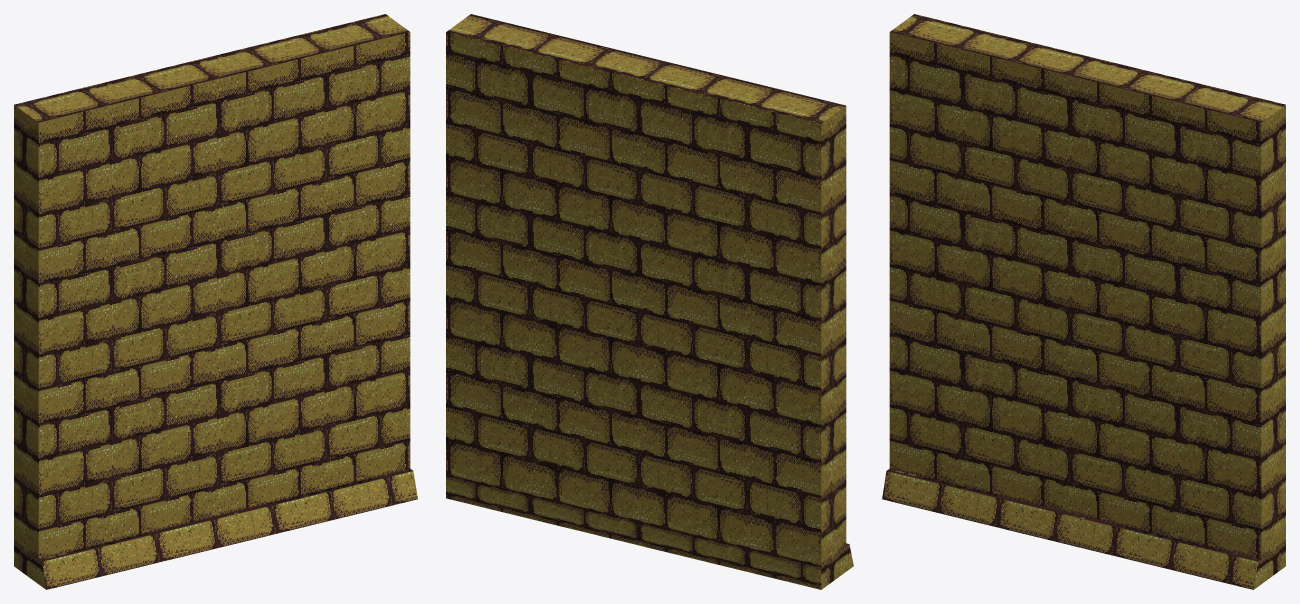
Rendered from vegg-plae.fbx.
3 views of the same model, side by side, from view 1: azimuth 30°, elevation 25°; view 2: azimuth 150°, elevation 25°; view 3: azimuth 330°, elevation 25° (orthographic).
Parts seen in each view (by area): view 1: pCube2; view 2: pCube2; view 3: pCube2.
Boxes of the visible parts, x1,y1,x2,y2 form: pCube2: (14,14,417,589); pCube2: (446,14,853,589); pCube2: (882,14,1285,589).
Bounding box in the file's own units: 7.71 × 9.15 × 1.16.
